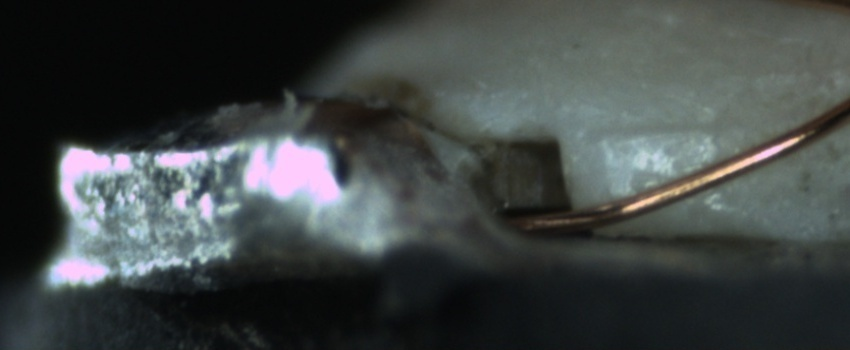DL: (593, 96, 740, 167)
